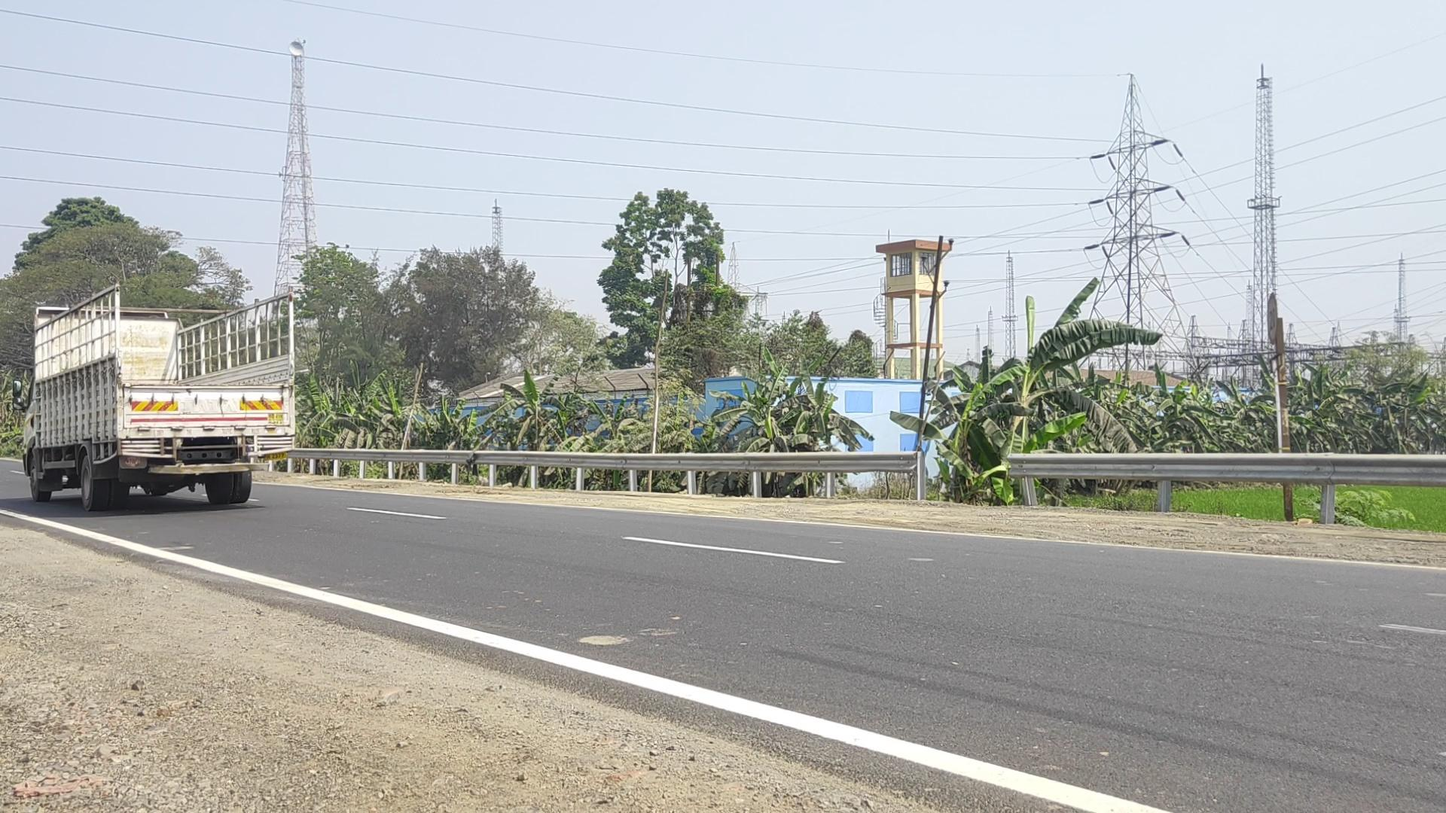van: (13, 281, 294, 512)
